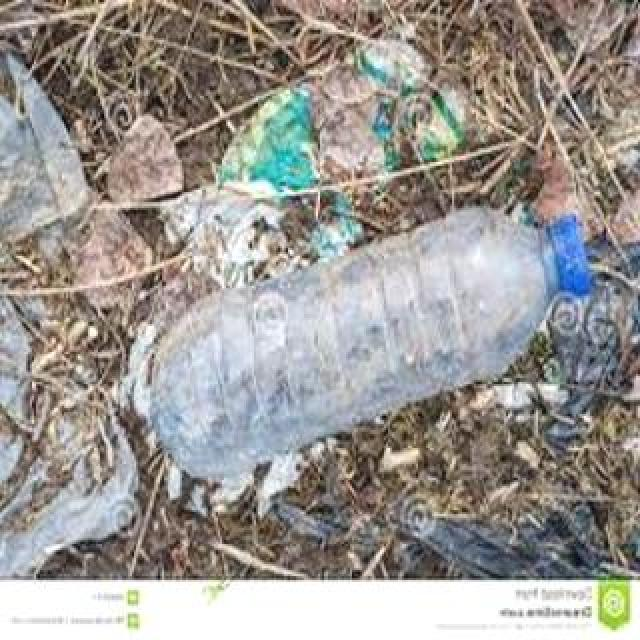Pet_Bottle: (149, 208, 597, 494)
